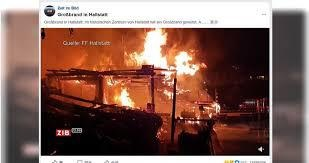fire: (129, 28, 202, 76), (108, 78, 134, 108)
